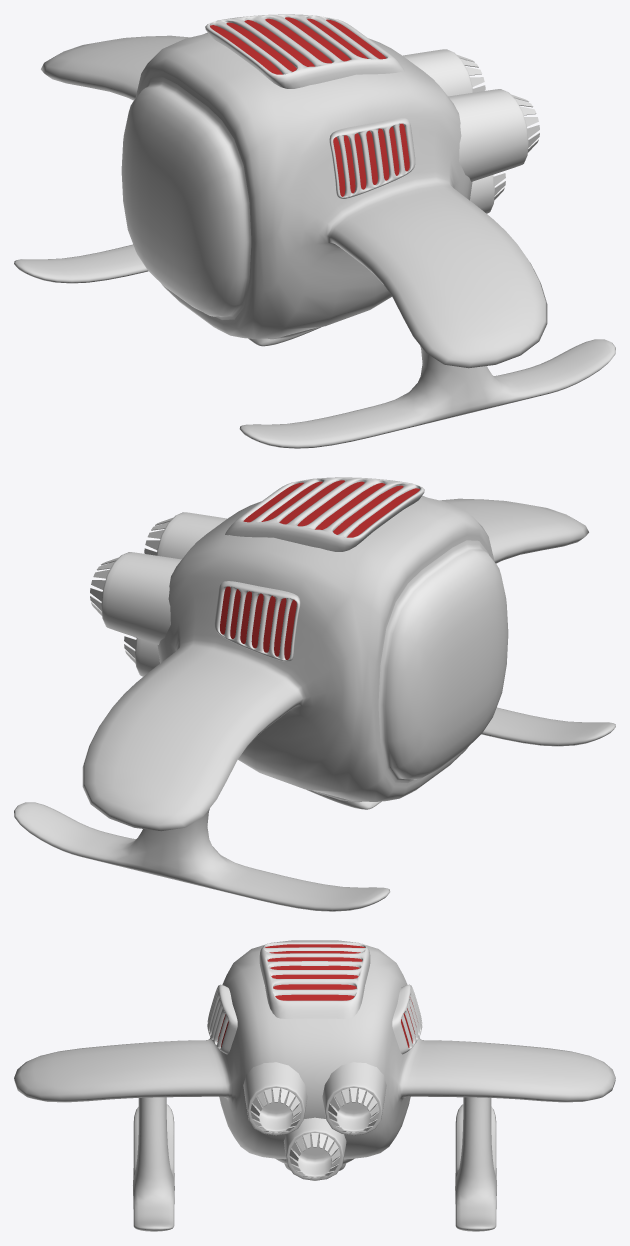
File: small_transport_unit_01.fbx
3 views of the same model, one above another, from view 1: azimuth 30°, elevation 25°; view 2: azimuth 150°, elevation 25°; view 3: azimuth 270°, elevation 25° (orthographic). The views are drawn at different scales.
Parts seen in each view (by area): view 1: small_transport_drone, small_transport_drone.001, Object002, roof_part, roof_part001, roof_part008, roof_part006, Object003; view 2: small_transport_drone, small_transport_drone.001, Object002, roof_part, roof_part001, roof_part010, roof_part011, Object003; view 3: small_transport_drone, Object002, roof_part, roof_part001, Object003, roof_part008, roof_part010.
Boxes of the visible parts, <box> form: small_transport_drone: <box>14,32,615,448</box>; small_transport_drone.001: <box>121,77,251,319</box>; Object002: <box>403,49,528,181</box>; roof_part: <box>205,14,404,88</box>; roof_part001: <box>210,17,386,74</box>; roof_part008: <box>329,118,415,198</box>; roof_part006: <box>333,123,409,196</box>; Object003: <box>470,175,494,213</box>; small_transport_drone: <box>14,495,615,911</box>; small_transport_drone.001: <box>378,540,508,782</box>; Object002: <box>101,512,226,644</box>; roof_part: <box>225,477,424,551</box>; roof_part001: <box>243,480,419,537</box>; roof_part010: <box>214,581,300,661</box>; roof_part011: <box>220,586,296,659</box>; Object003: <box>135,638,159,676</box>; small_transport_drone: <box>14,940,615,1231</box>; Object002: <box>243,1062,386,1135</box>; roof_part: <box>259,942,370,1018</box>; roof_part001: <box>265,944,364,1000</box>; Object003: <box>283,1117,346,1180</box>; roof_part008: <box>207,984,237,1054</box>; roof_part010: <box>392,984,422,1054</box>.
Bounding box in the file's own units: 14251 × 11066 × 28121.
